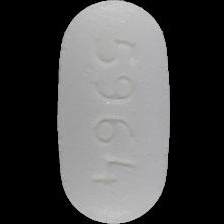0093-5964: (0, 0, 224, 224)
